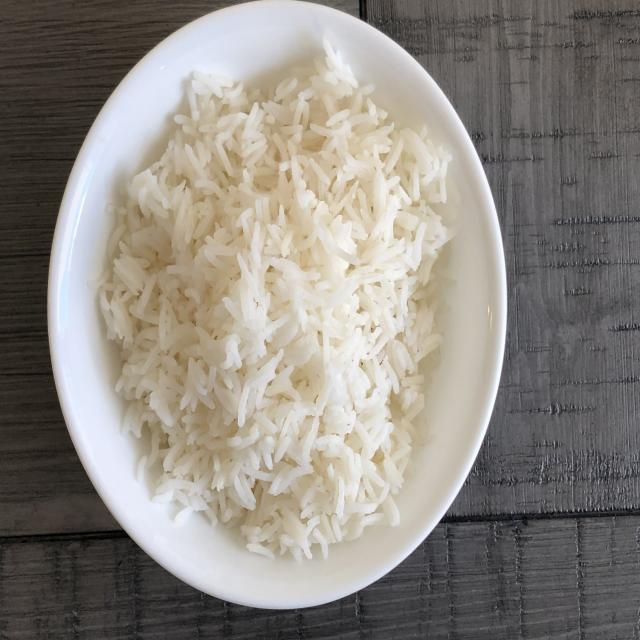rice: (109, 44, 454, 558)
